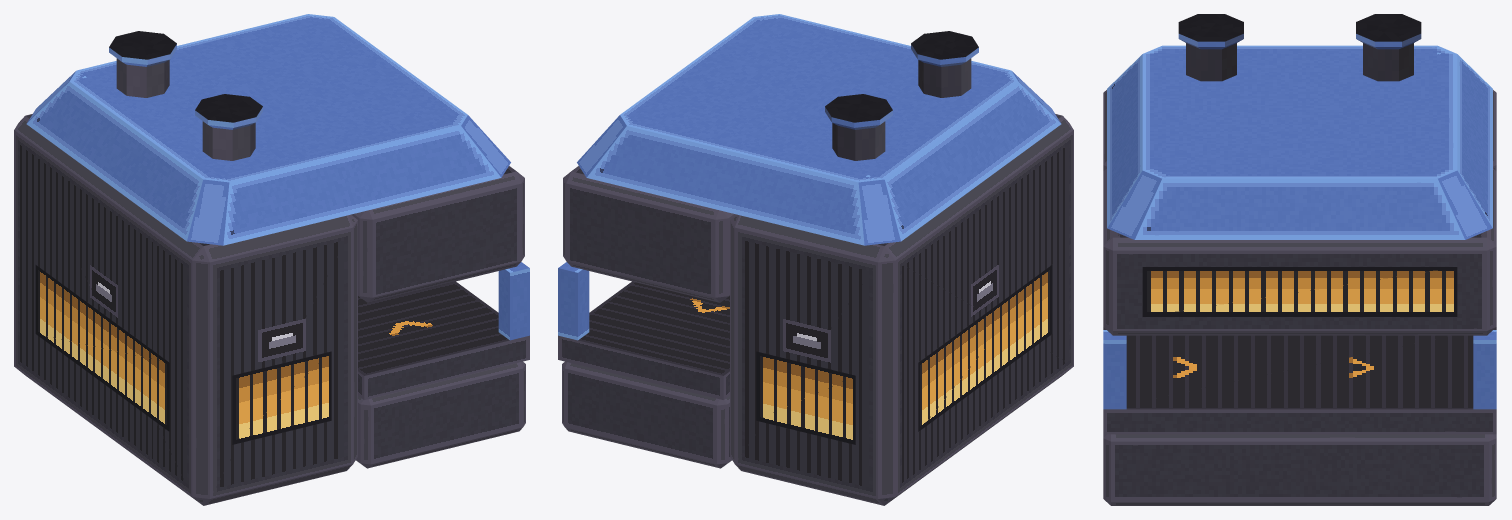
Rendered from processor.glb.
3 views of the same model, side by side, from view 1: azimuth 30°, elevation 25°; view 2: azimuth 150°, elevation 25°; view 3: azimuth 270°, elevation 25° (orthographic). The views are drawn at different scales.
Visible parts, largest first — view 1: processor_body, processor_glow; view 2: processor_body, processor_glow; view 3: processor_body, processor_glow.
Part boxes in pixels (x1=…): processor_body: x1=14, y1=14, x2=529, y2=505; processor_glow: x1=35, y1=265, x2=331, y2=444; processor_body: x1=558, y1=14, x2=1073, y2=505; processor_glow: x1=756, y1=265, x2=1052, y2=444; processor_body: x1=1103, y1=14, x2=1496, y2=505; processor_glow: x1=1142, y1=267, x2=1457, y2=316.
Bounding box in the file's own units: 2.01 × 2 × 2.01.
1 material, 1 textured.
